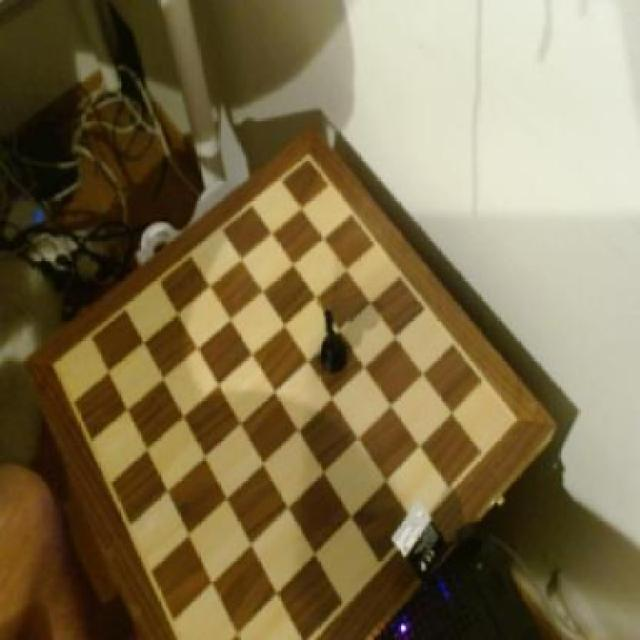black-king: (314, 298, 351, 378)
